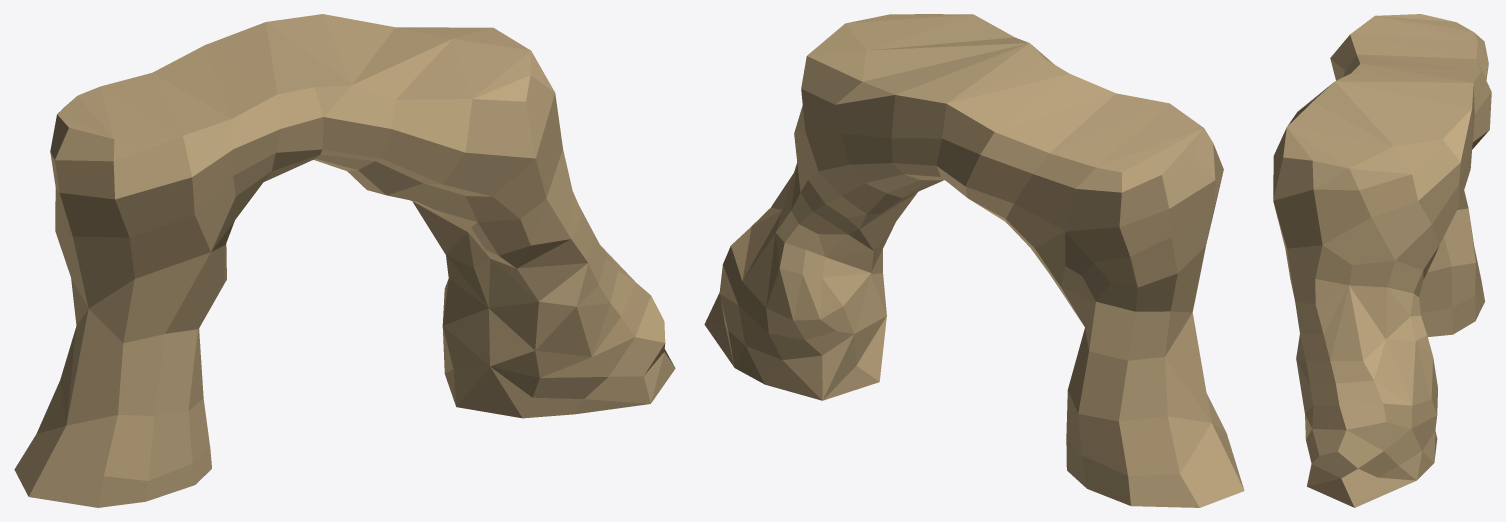
File: Pillar-C07.fbx
3 views of the same model, side by side, from view 1: azimuth 30°, elevation 25°; view 2: azimuth 150°, elevation 25°; view 3: azimuth 270°, elevation 25° (orthographic). The views are drawn at different scales.
Visible parts, largest first — view 1: Pillar-C07; view 2: Pillar-C07; view 3: Pillar-C07.
Part boxes in pixels (<box>): Pillar-C07: <box>14,14,675,507</box>; Pillar-C07: <box>704,14,1244,507</box>; Pillar-C07: <box>1273,14,1491,507</box>.
Size of the model in its own units: 487 by 190 by 287.
